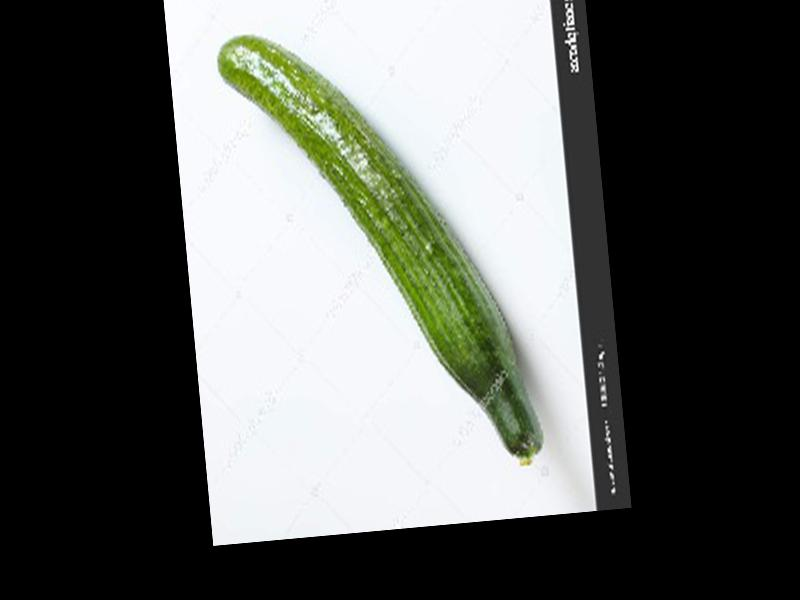Cucumber: (215, 14, 542, 490)
